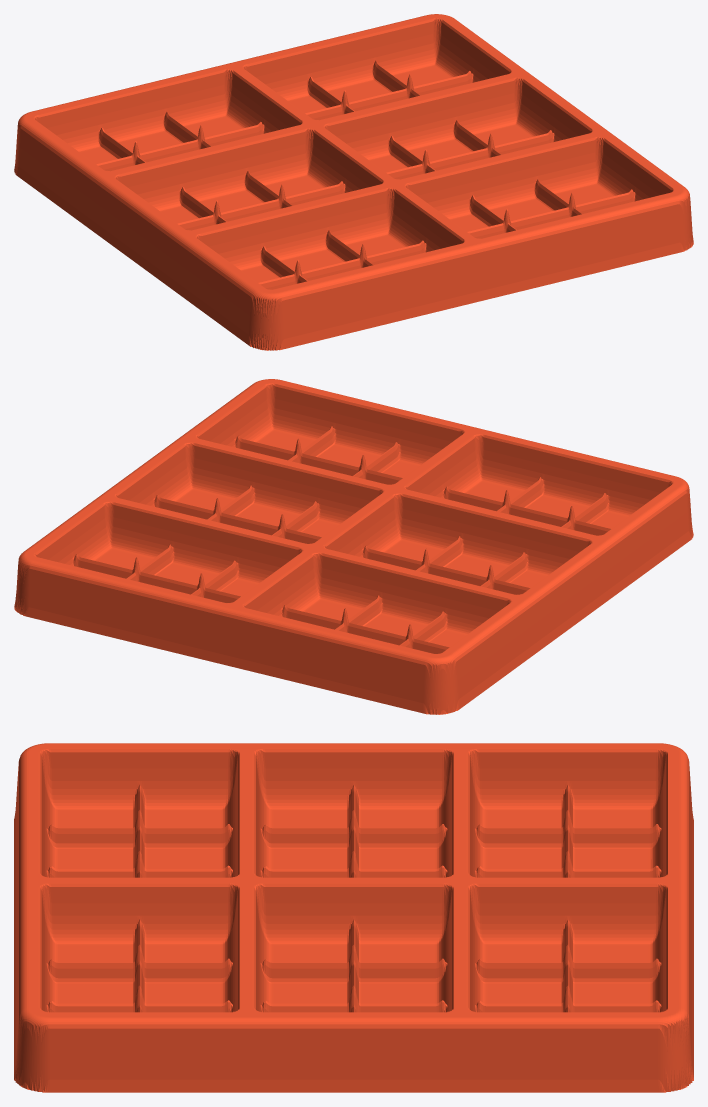
File: mold.glb
3 renders of one model, top to bottom at view 1: azimuth 30°, elevation 25°; view 2: azimuth 150°, elevation 25°; view 3: azimuth 270°, elevation 25°, orthographic. The views are drawn at different scales.
Visible parts, largest first — view 1: geometry_0; view 2: geometry_0; view 3: geometry_0.
Part boxes in pixels (x1=…): geometry_0: x1=14, y1=14, x2=693, y2=350; geometry_0: x1=14, y1=379, x2=693, y2=714; geometry_0: x1=14, y1=743, x2=693, y2=1092.
Bounding box in the file's own units: 0.1716 × 0.0195 × 0.1728.
